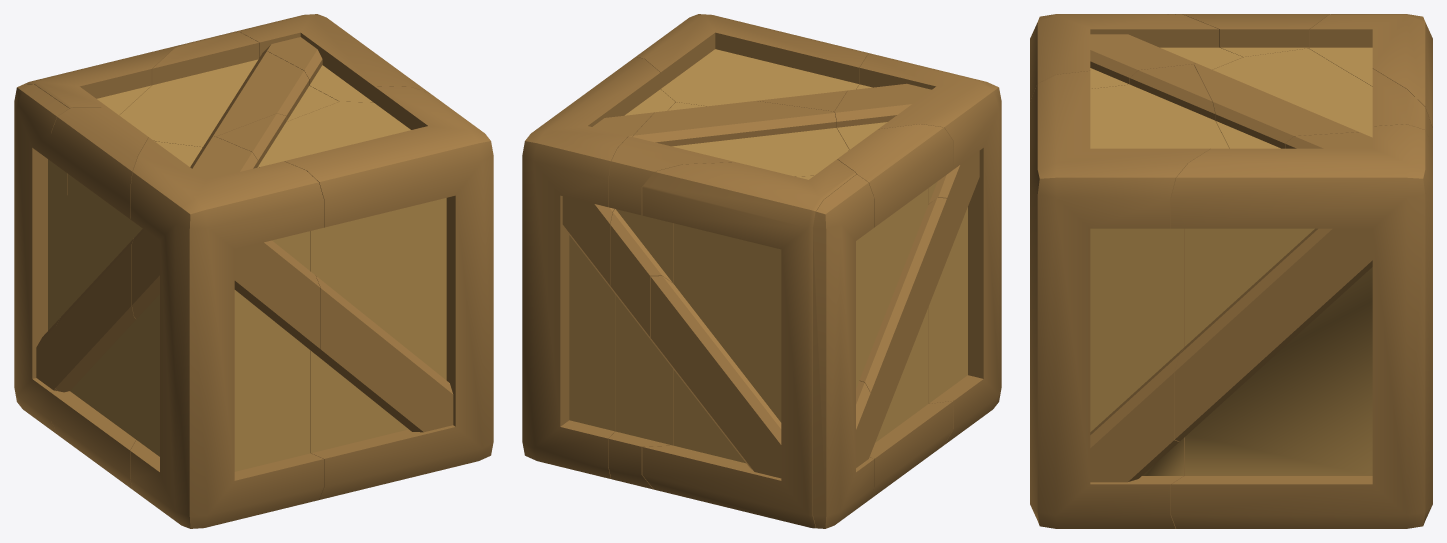
The model's file is Crate_Fractured.fbx.
3 renders of one model, left to right at view 1: azimuth 30°, elevation 25°; view 2: azimuth 150°, elevation 25°; view 3: azimuth 270°, elevation 25°, orthographic. The views are drawn at different scales.
Visible parts, largest first — view 1: Cube_Crate_cell.004, Cube_Crate_cell.003, Cube_Crate_cell, Cube_Crate_cell.005, Cube_Crate_cell.002, Cube_Crate_cell.006, Cube_Crate_cell.001; view 2: Cube_Crate_cell.001, Cube_Crate_cell.006, Cube_Crate_cell.002, Cube_Crate_cell.003, Cube_Crate_cell, Cube_Crate_cell.005, Cube_Crate_cell.004; view 3: Cube_Crate_cell.006, Cube_Crate_cell.004, Cube_Crate_cell.002, Cube_Crate_cell.003, Cube_Crate_cell.001, Cube_Crate_cell.
Part boxes in pixels (x1,y1,x2,y2): Cube_Crate_cell.004: (216,86,493,499); Cube_Crate_cell.003: (130,136,323,528); Cube_Crate_cell: (51,107,155,489); Cube_Crate_cell.005: (14,83,69,433); Cube_Crate_cell.002: (119,32,339,147); Cube_Crate_cell.006: (230,14,430,102); Cube_Crate_cell.001: (26,43,185,115); Cube_Crate_cell.001: (642,159,856,528); Cube_Crate_cell.006: (522,57,675,478); Cube_Crate_cell.002: (608,101,848,489); Cube_Crate_cell.003: (834,54,1001,444); Cube_Crate_cell: (837,124,953,499); Cube_Crate_cell.005: (813,174,874,528); Cube_Crate_cell.004: (635,14,871,111); Cube_Crate_cell.006: (1171,124,1432,528); Cube_Crate_cell.004: (1030,64,1229,528); Cube_Crate_cell.002: (1194,48,1432,148); Cube_Crate_cell.003: (1030,14,1242,100); Cube_Crate_cell.001: (1309,14,1432,127); Cube_Crate_cell: (1168,14,1330,57).
Size of the model in its own units: 202 by 202 by 202.
